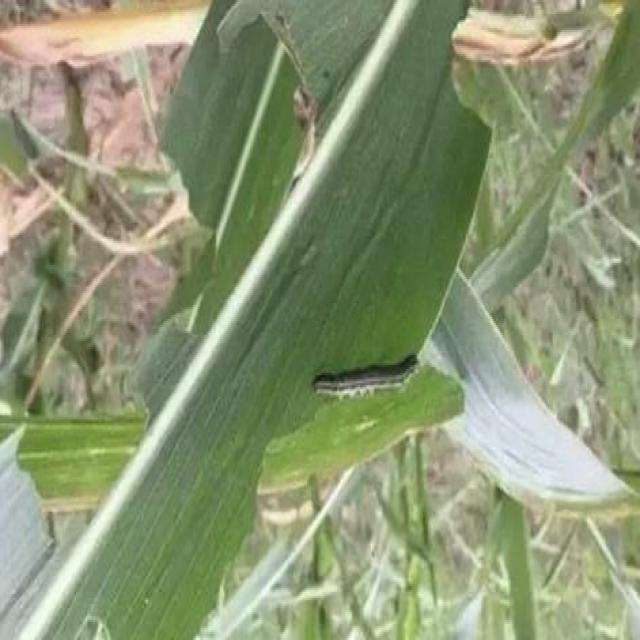pest: (313, 349, 423, 407)
